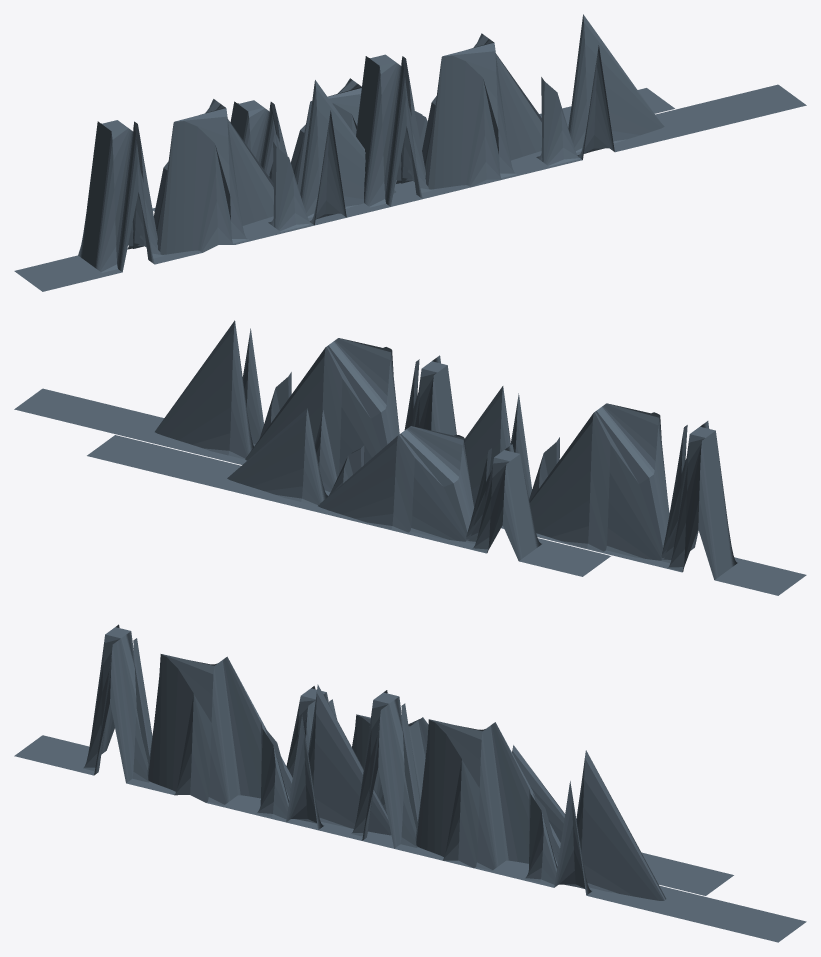
Rendered from mountain_mid.glb.
3 renders of one model, top to bottom at view 1: azimuth 30°, elevation 25°; view 2: azimuth 150°, elevation 25°; view 3: azimuth 330°, elevation 25°, orthographic.
Visible parts, largest first — view 1: Plane.001, Plane.002, Plane; view 2: Plane, Plane.002, Plane.001; view 3: Plane.001, Plane.002, Plane.
Part boxes in pixels (x1,y1,x2,y2): Plane.001: (308, 14, 806, 226); Plane.002: (14, 80, 537, 291); Plane: (152, 78, 674, 211); Plane: (87, 408, 610, 576); Plane.002: (464, 386, 806, 595); Plane.001: (14, 320, 503, 528); Plane.001: (282, 690, 806, 942); Plane.002: (14, 624, 527, 876); Plane: (286, 686, 733, 895).
Size of the model in its own units: 185 by 30.74 by 24.35.
